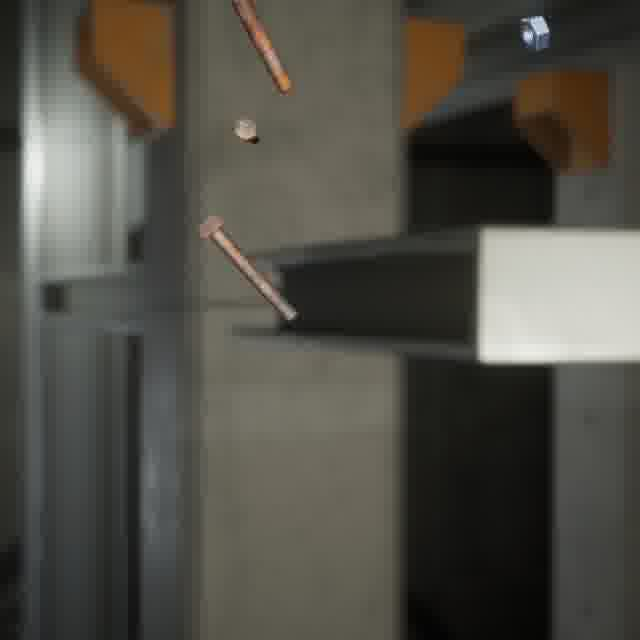bolt: (192, 209, 301, 326), (224, 0, 298, 97), (230, 112, 264, 148)
nut: (515, 11, 554, 55)
